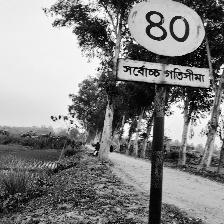Speed-limit: (116, 0, 211, 90)
